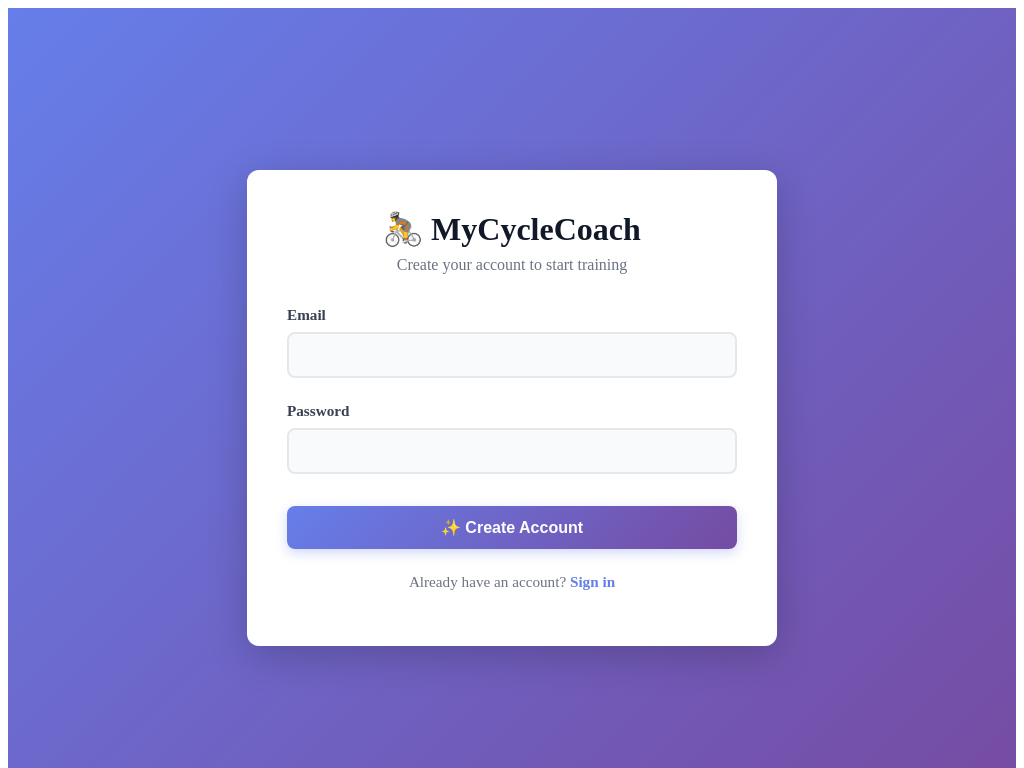
it: RegisterPage Component › shows validation error when email is empty
The image size is (1024, 768).
Click the button "✨ Create Account" at coordinates (512, 527), box 287,506 -> 737,549
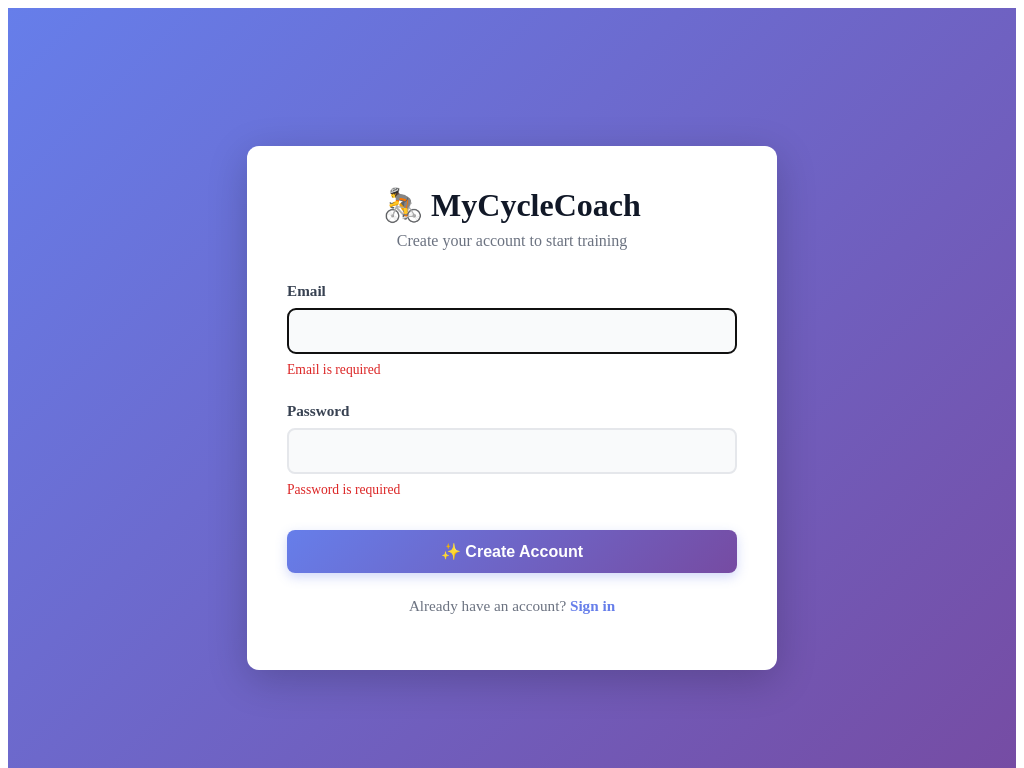
Expected: the text "Email is required" is shown, 287,362 -> 381,377
